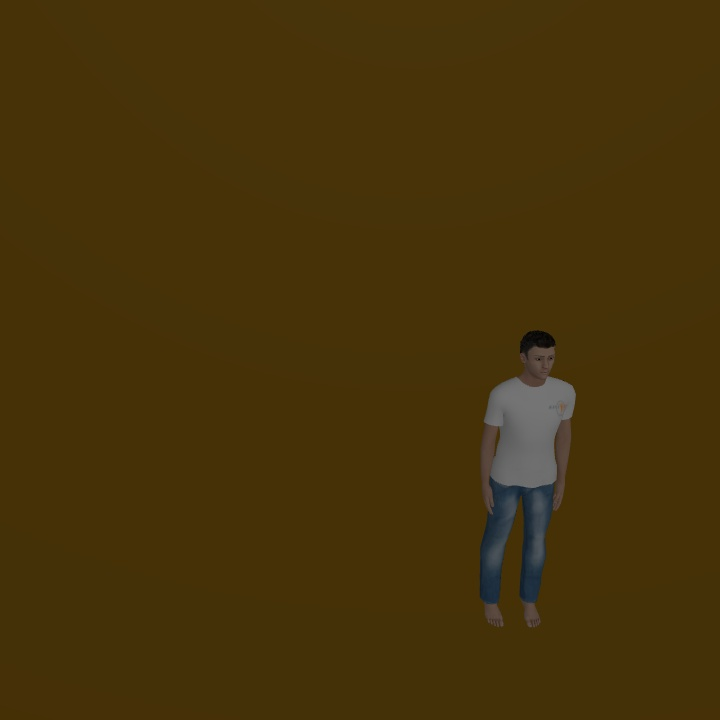victim: (477, 327, 578, 627)
